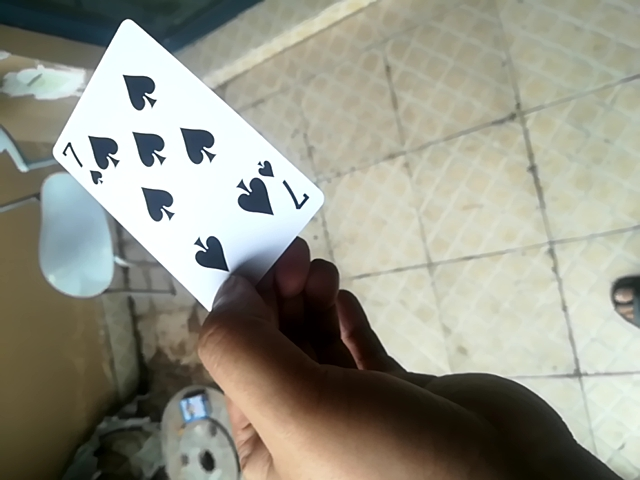ht 7: (40, 19, 328, 322)
